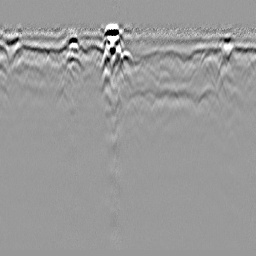cavity: (112, 47, 136, 78)
